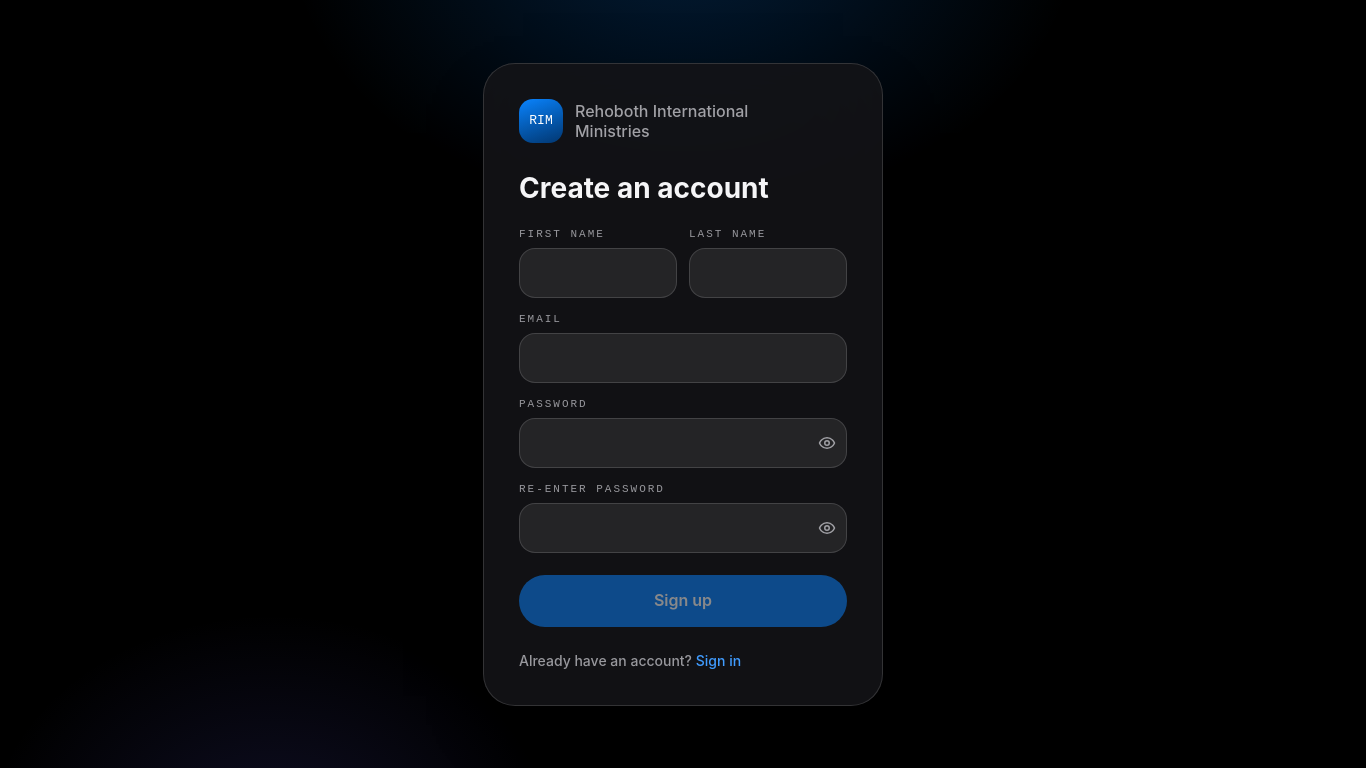
Test: signing up › goes back to the form, with what they typed, when the address was wrong
Step 1. Type "Ada" into the field labelled "First name" → (598, 272), box [519,248,677,298]
Step 2. Type "Grace" into the field labelled "Last name" → (768, 272), box [689,248,847,298]
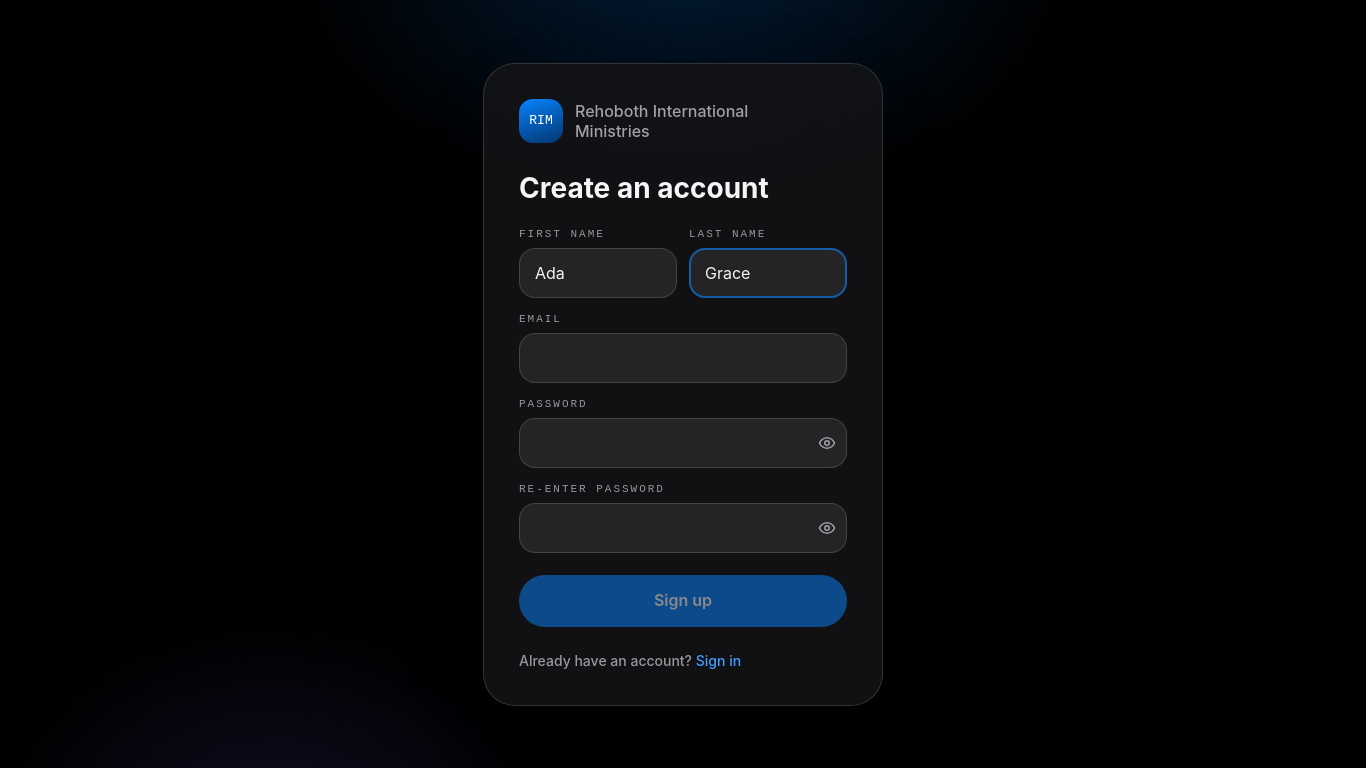
Step 3. Type "  ada@gmail.com " into the field labelled "Email" → (683, 358), box [519,332,847,382]
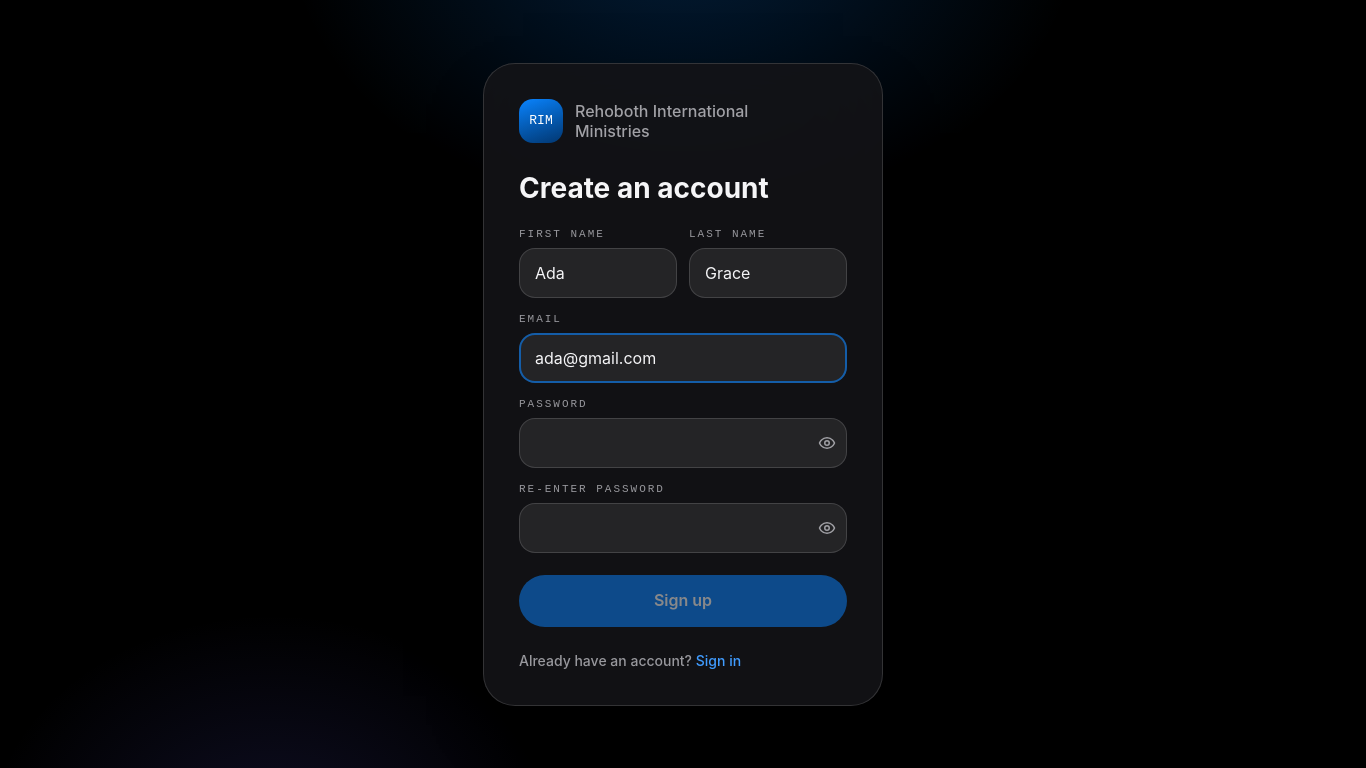
Step 4. Type "Sunday-Rota-9" into the password field labelled "Password" → (683, 442), box [519,418,847,468]
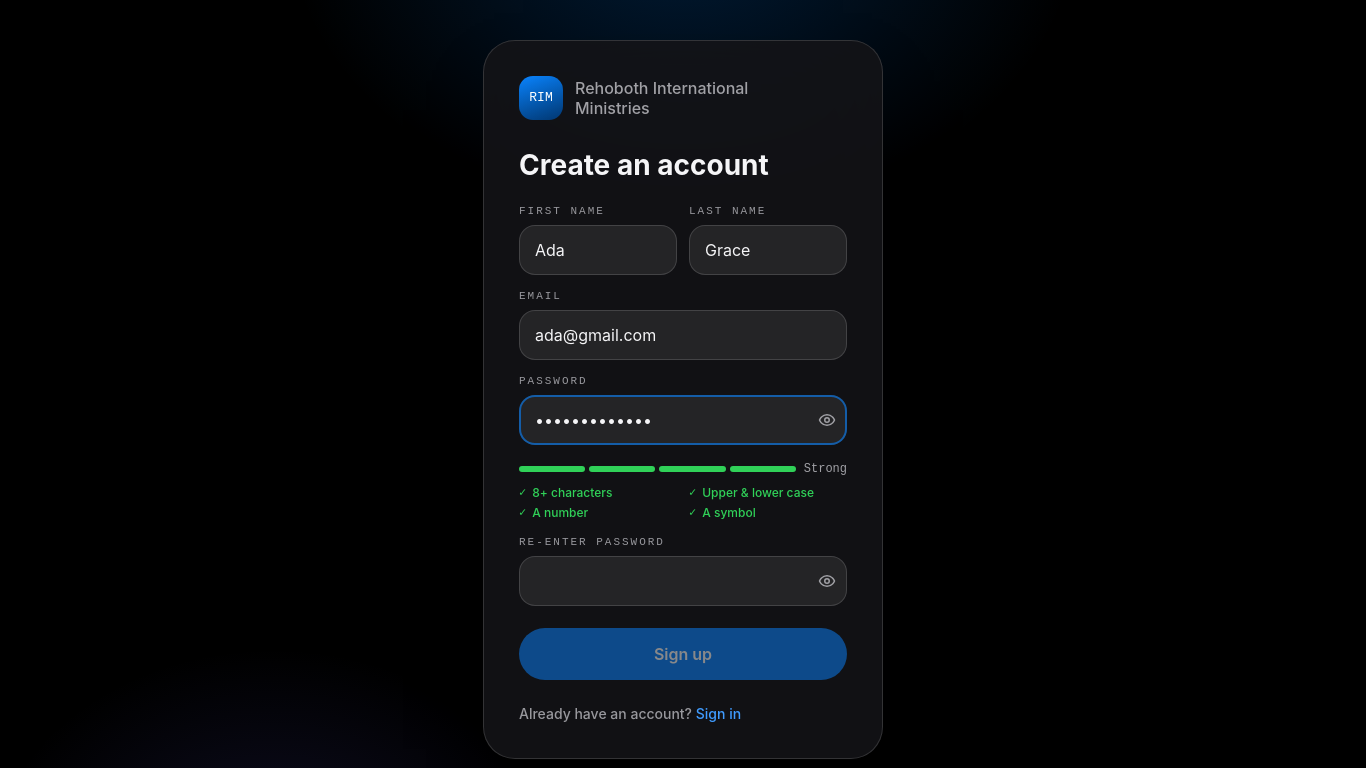
Step 5. Type "Sunday-Rota-9" into the password field labelled "Re-enter password" → (683, 581), box [519,556,847,606]
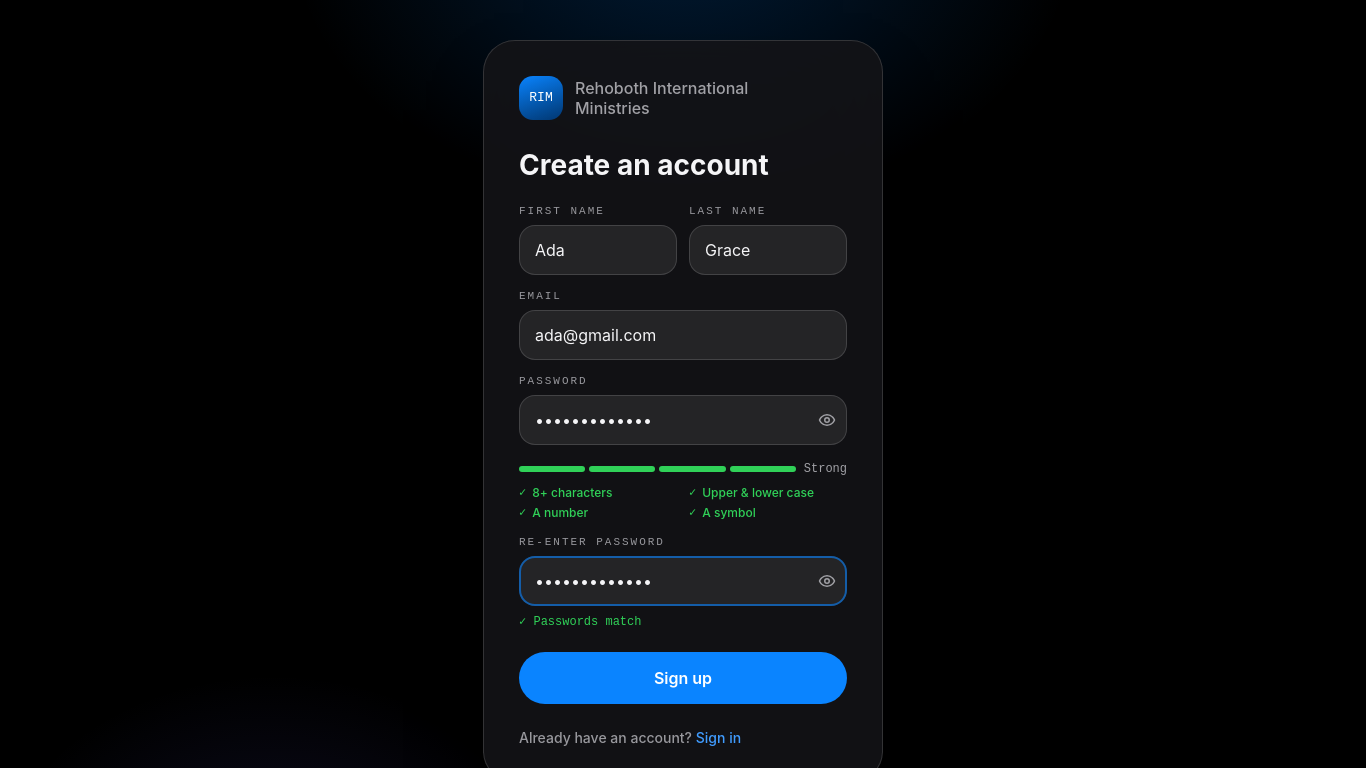
Step 6. Click the button "Sign up" → (683, 678), box [519,652,847,704]
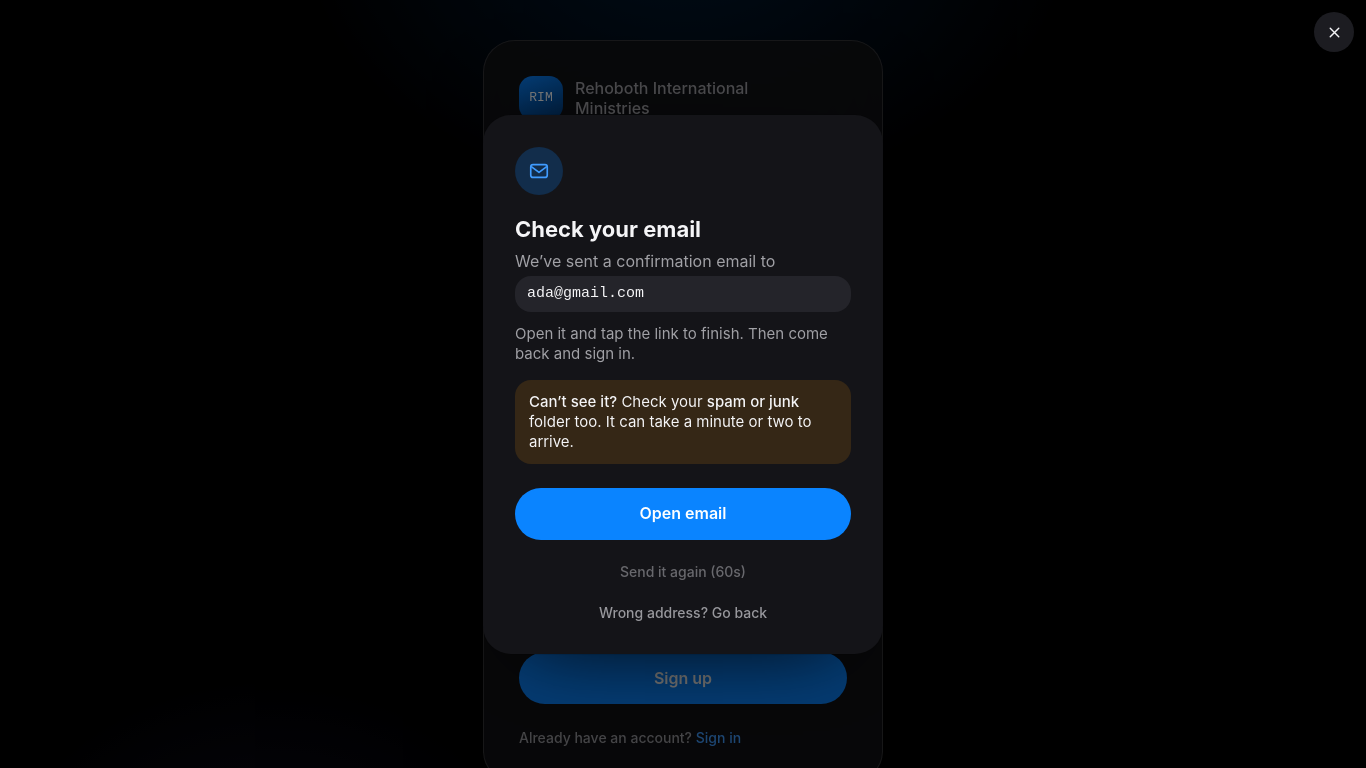
Check: the dialog "Check your email" is shown
Step 7. Click the button "Wrong address? Go back" → (683, 612), box [515,602,851,622]
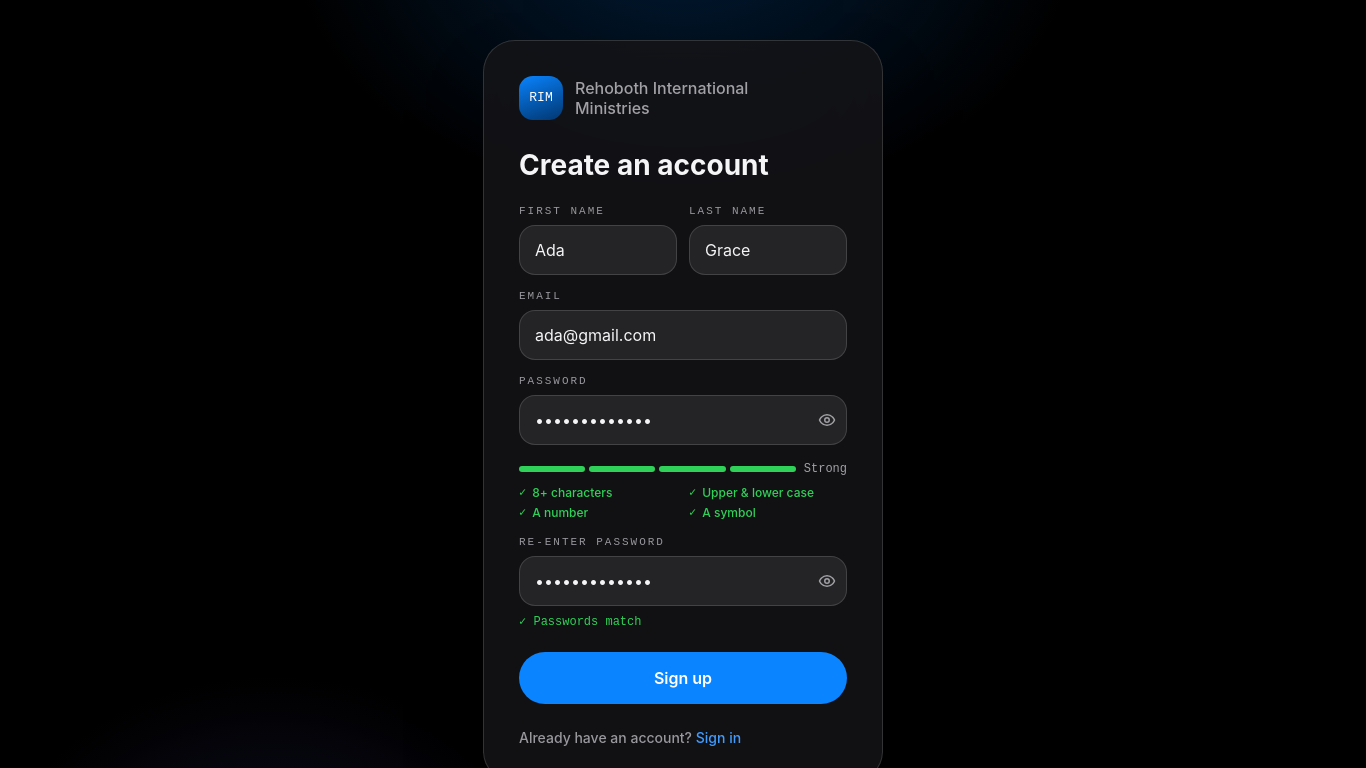
Check: the heading "Check your email" is gone
